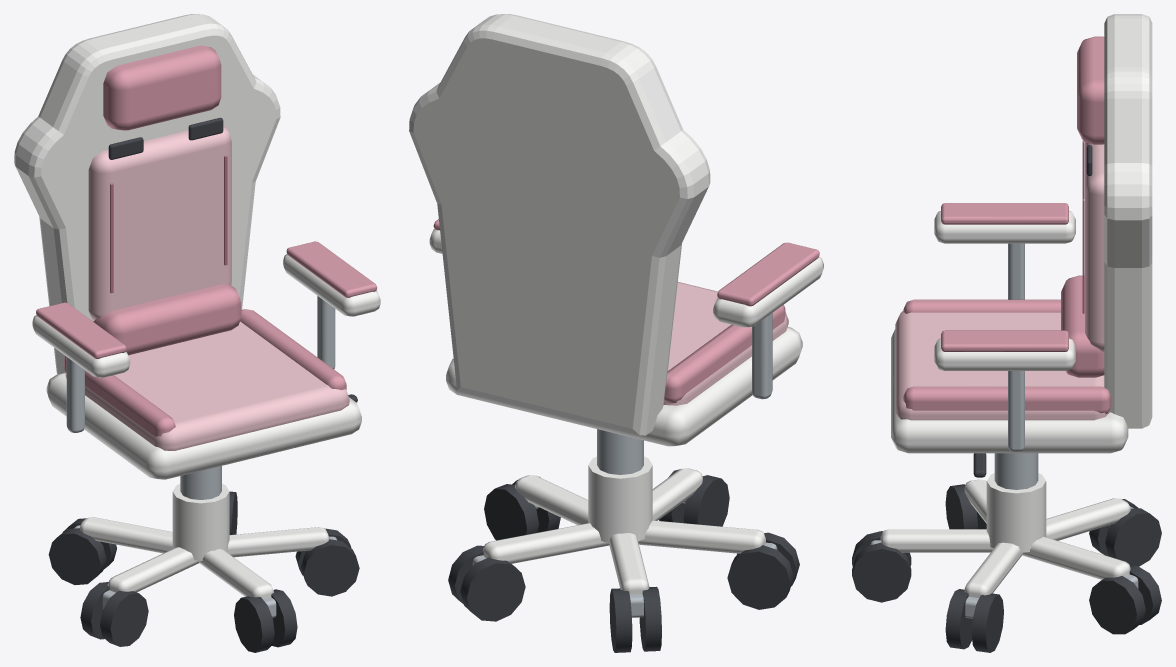
Rendered from cozy-gaming-chair.glb.
The picture shows the model from 3 angles, left to right: view 1: azimuth 30°, elevation 25°; view 2: azimuth 150°, elevation 25°; view 3: azimuth 270°, elevation 25°; orthographic projection. The views are drawn at different scales.
Visible parts, largest first — view 1: Porcelain, RoseFabric, PetalPink, SoftGraphite, BrushedSilver, RoseSeam; view 2: Porcelain, SoftGraphite, PetalPink, RoseFabric, BrushedSilver; view 3: Porcelain, PetalPink, SoftGraphite, RoseFabric, BrushedSilver, RoseSeam.
Boxes of the visible parts, x1,y1,x2,y2 form: Porcelain: (14,14,380,599); RoseFabric: (65,125,349,450); PetalPink: (36,45,377,436); SoftGraphite: (48,117,359,652); BrushedSilver: (66,296,336,617); RoseSeam: (110,155,227,293); Porcelain: (409,14,823,594); SoftGraphite: (448,469,799,652); PetalPink: (433,219,819,403); RoseFabric: (663,282,788,405); BrushedSilver: (472,313,777,617); Porcelain: (880,14,1152,597); PetalPink: (903,36,1111,413); SoftGraphite: (852,145,1161,652); RoseFabric: (895,142,1109,420); BrushedSilver: (870,243,1138,618); RoseSeam: (1082,141,1084,313).
Bounding box in the file's own units: 1.52 × 2.66 × 1.36.
